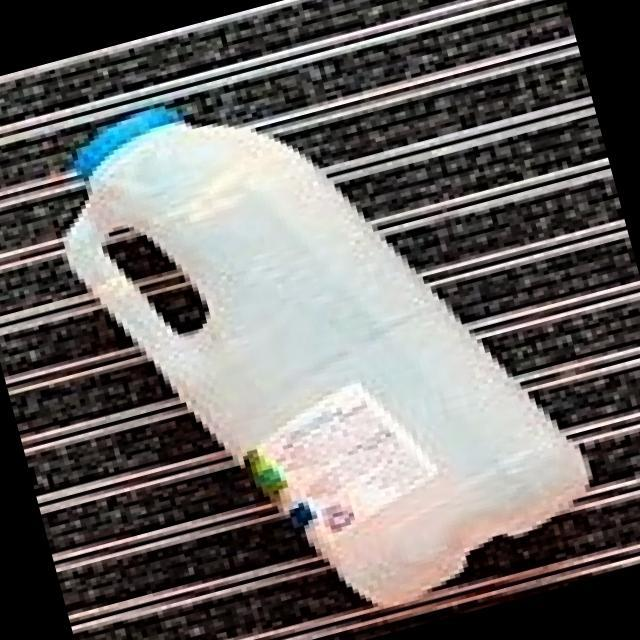HDPE Plastic: (57, 102, 597, 610)
